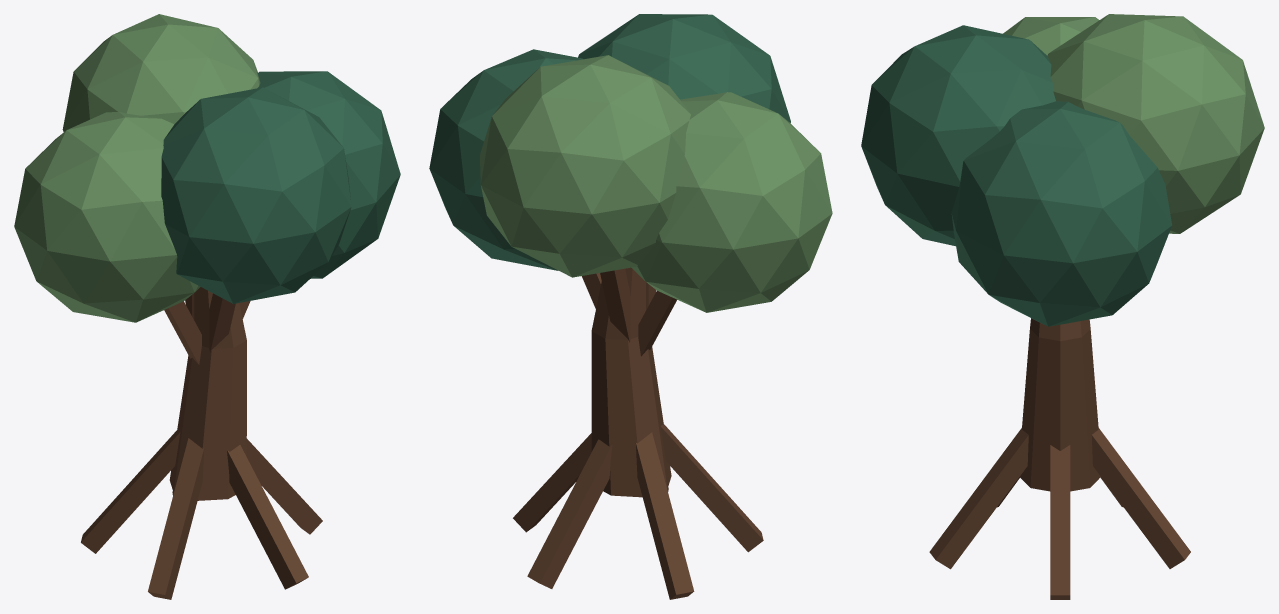
The model's file is PirateCove_Mangrove_Standard.glb.
3 views of the same model, side by side, from view 1: azimuth 30°, elevation 25°; view 2: azimuth 150°, elevation 25°; view 3: azimuth 270°, elevation 25° (orthographic). The views are drawn at different scales.
Visible parts, largest first — view 1: PirateCove_Mangrove_Standard; view 2: PirateCove_Mangrove_Standard; view 3: PirateCove_Mangrove_Standard.
Part boxes in pixels (<box>): PirateCove_Mangrove_Standard: <box>14,14,400,599</box>; PirateCove_Mangrove_Standard: <box>429,14,832,599</box>; PirateCove_Mangrove_Standard: <box>861,14,1264,599</box>.
Bounding box in the file's own units: 2.6 × 3.47 × 2.39.
